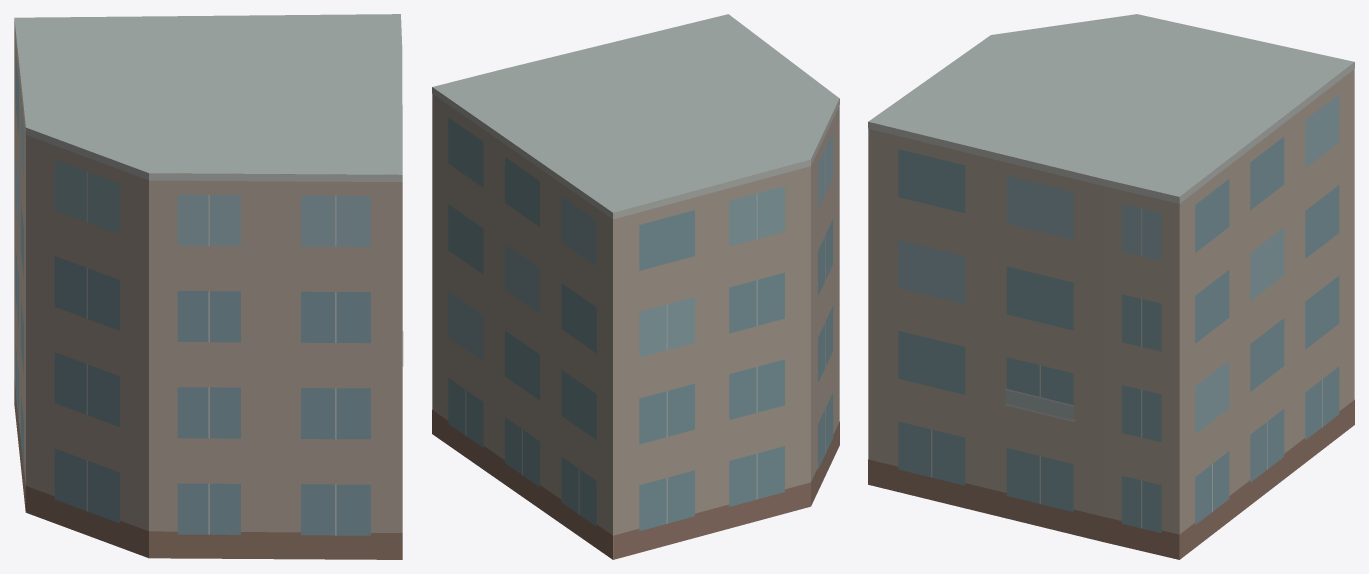
The model's file is survey-upis-33013328.glb.
The picture shows the model from 3 angles, left to right: view 1: azimuth 30°, elevation 25°; view 2: azimuth 150°, elevation 25°; view 3: azimuth 270°, elevation 25°; orthographic projection. The views are drawn at different scales.
Parts seen in each view (by area): view 1: survey-upis-33013328.tmp; view 2: survey-upis-33013328.tmp; view 3: survey-upis-33013328.tmp.
Boxes of the visible parts, box(x1,y1,x2,y2) form: survey-upis-33013328.tmp: box(14, 14, 403, 559); survey-upis-33013328.tmp: box(432, 14, 839, 559); survey-upis-33013328.tmp: box(868, 14, 1354, 559).
Bounding box in the file's own units: 13.84 × 12.8 × 15.56.
